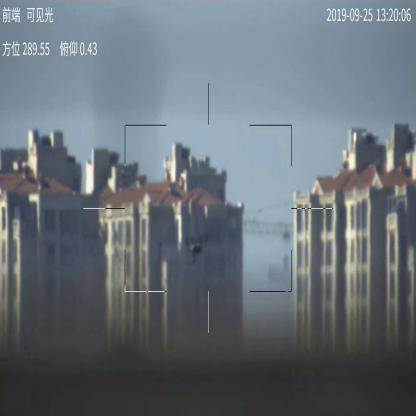uav: (184, 234, 210, 266)
